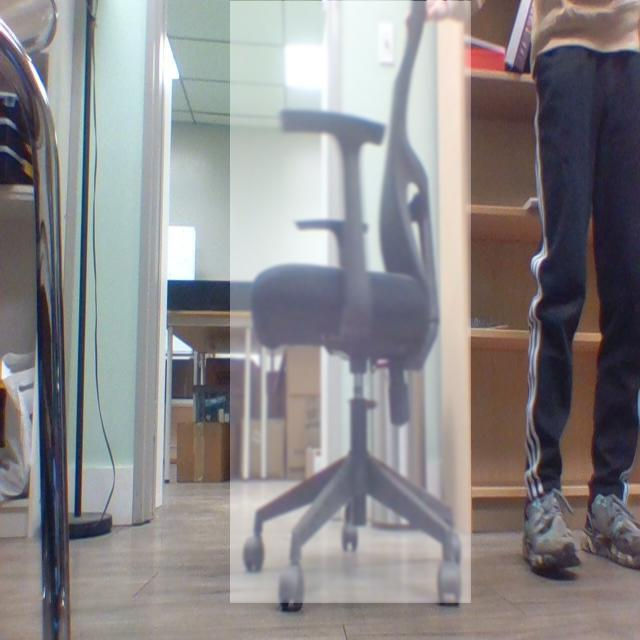chair: (231, 1, 473, 604)
